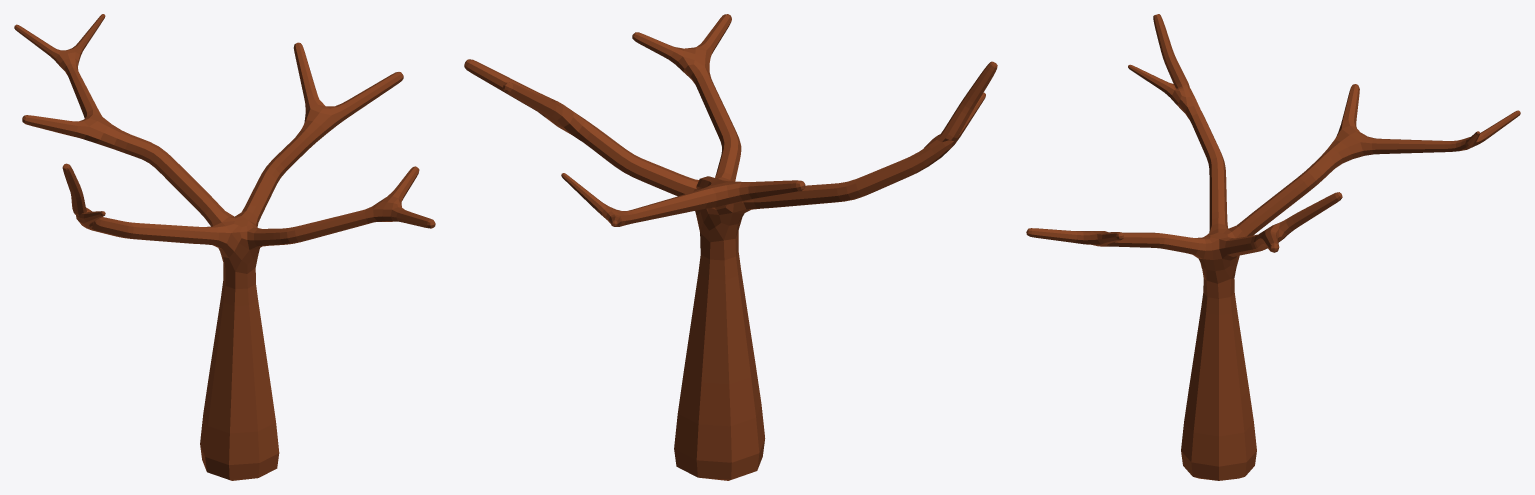
The model's file is BadTree1.fbx.
3 renders of one model, left to right at view 1: azimuth 30°, elevation 25°; view 2: azimuth 150°, elevation 25°; view 3: azimuth 270°, elevation 25°, orthographic. The views are drawn at different scales.
Visible parts, largest first — view 1: Trunk; view 2: Trunk; view 3: Trunk.
Boxes of the visible parts, <box> form: Trunk: <box>14,14,435,480</box>; Trunk: <box>464,14,997,480</box>; Trunk: <box>1026,14,1520,480</box>.
Bounding box in the file's own units: 1111 × 1007 × 1244.
